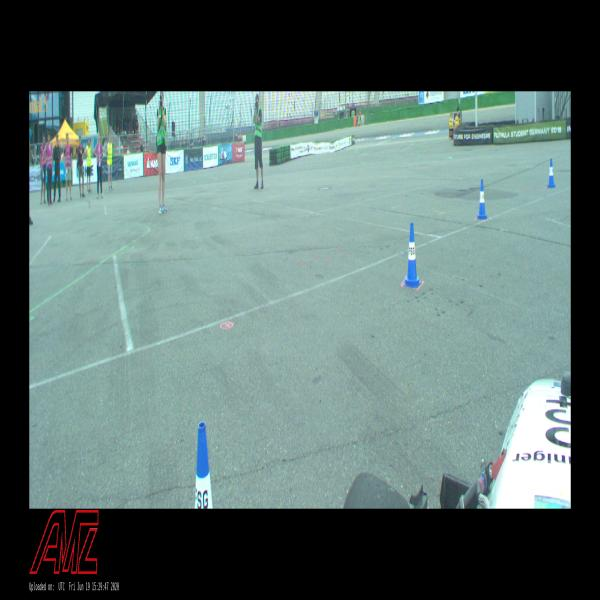blue_cone: (194, 421, 213, 509), (402, 222, 422, 288), (476, 179, 488, 219), (547, 159, 556, 188)
